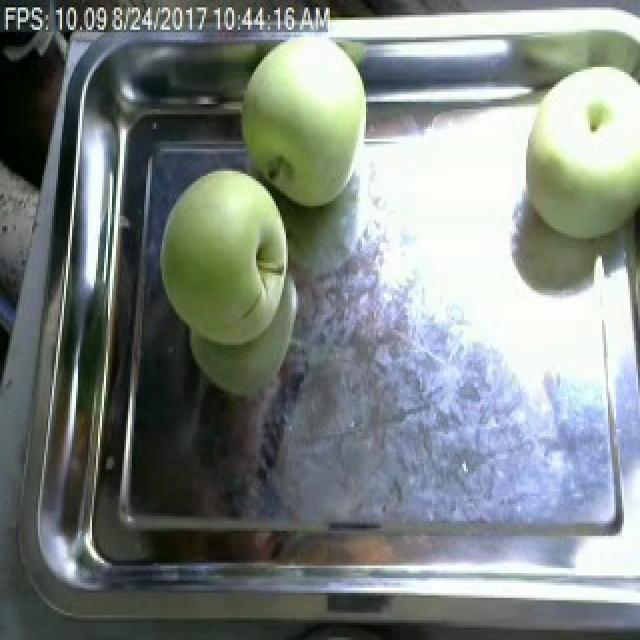50-_ripeness: (230, 40, 392, 209), (156, 180, 312, 354), (520, 66, 640, 243)
